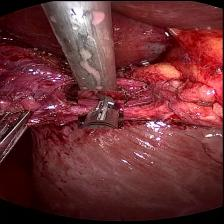Clipper: (78, 90, 124, 128)
Grasper: (0, 106, 40, 161)
